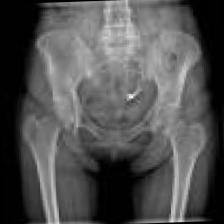impacted-fracture: (11, 0, 219, 224)
